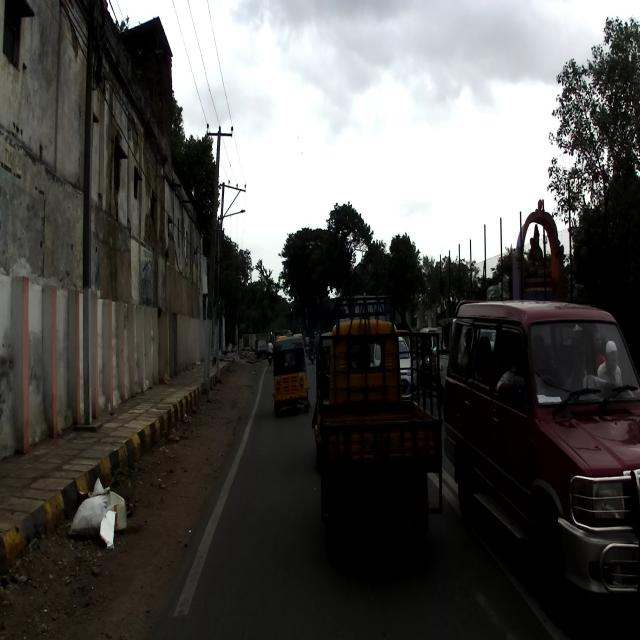autorickshaw: (310, 290, 446, 554)
car: (441, 298, 639, 639)
